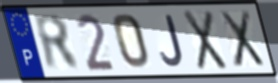0: (111, 12, 152, 70)
2: (74, 11, 117, 73)
J: (159, 13, 185, 68)
R: (30, 13, 83, 72)
X: (181, 9, 230, 72), (217, 9, 267, 70)
